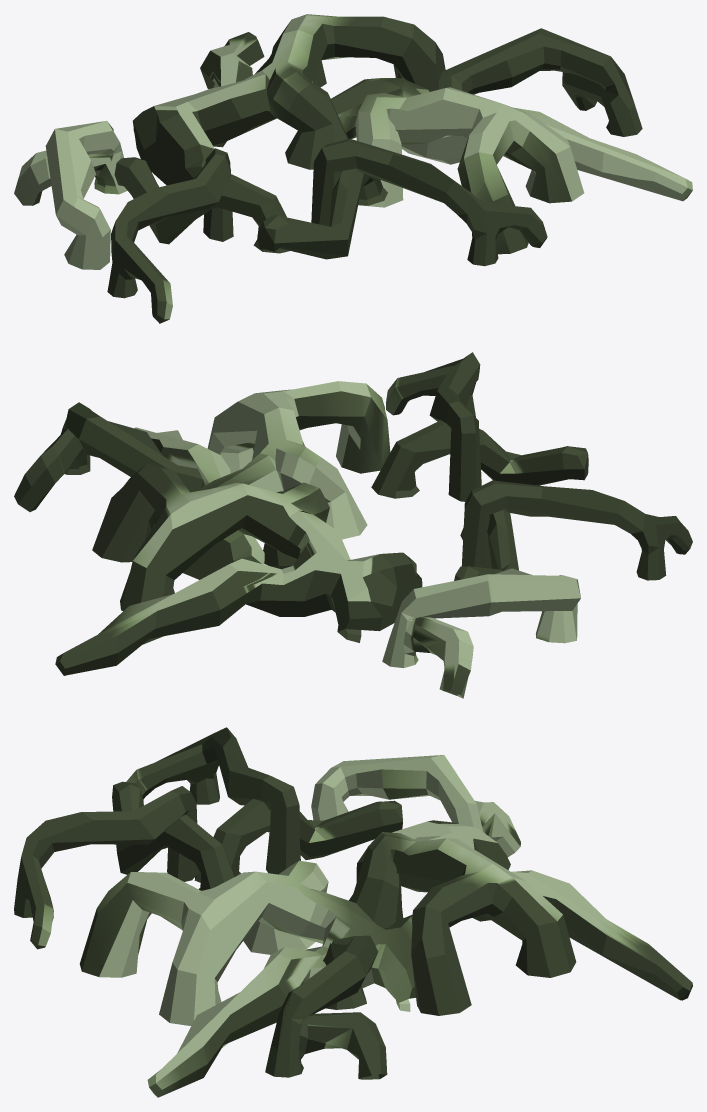
File: EA_Swamp_Root_04a.glb
3 views of the same model, one above another, from view 1: azimuth 30°, elevation 25°; view 2: azimuth 150°, elevation 25°; view 3: azimuth 270°, elevation 25° (orthographic). The views are drawn at different scales.
Parts seen in each view (by area): view 1: EA_Swamp_Root_04a; view 2: EA_Swamp_Root_04a; view 3: EA_Swamp_Root_04a.
Part boxes in pixels (box(x1,y1,x2,y2)): EA_Swamp_Root_04a: box(14, 14, 692, 323); EA_Swamp_Root_04a: box(14, 352, 692, 698); EA_Swamp_Root_04a: box(14, 727, 692, 1097).
Size of the model in its own units: 2.37 by 0.5635 by 2.36.
1 material, 1 textured.
